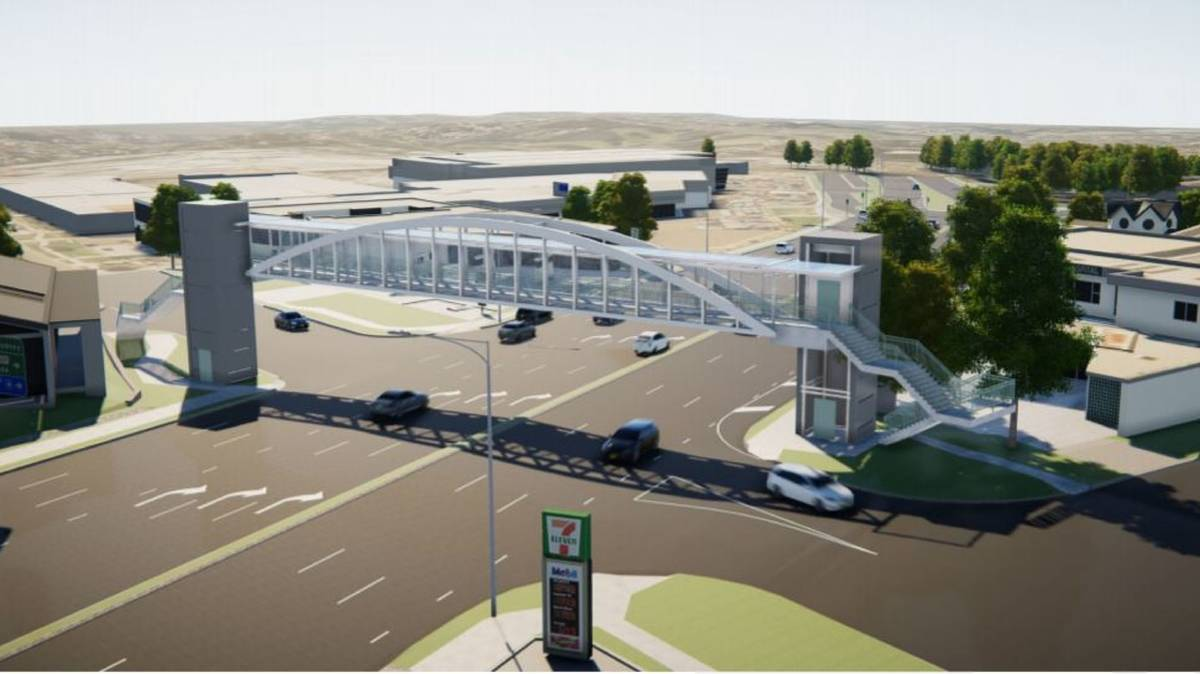bridge: (183, 185, 891, 438)
